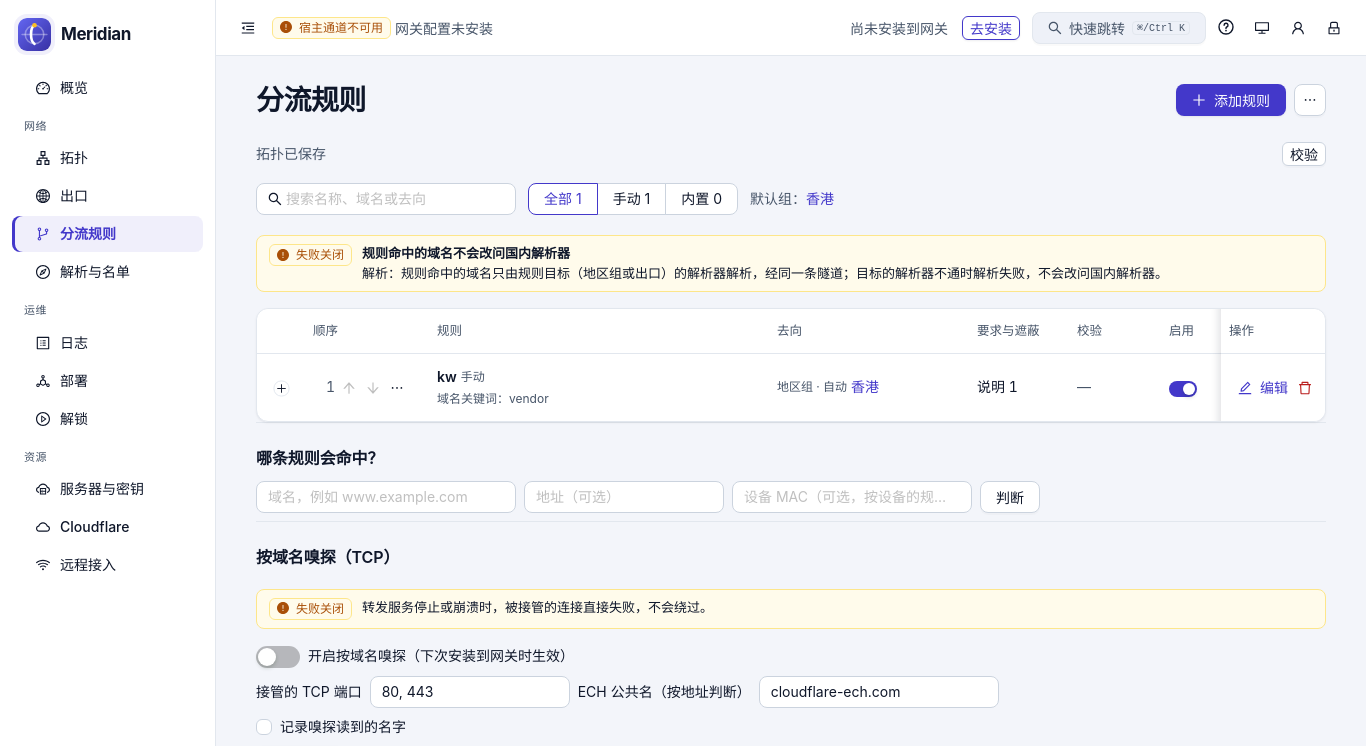
Scenario: keyword rules: the capability note follows the sniff state › rule list note, sniff pending
Step 1. Click the button with test id "rule-hints-kw" → [997, 388], box 977,376 -> 1018,398
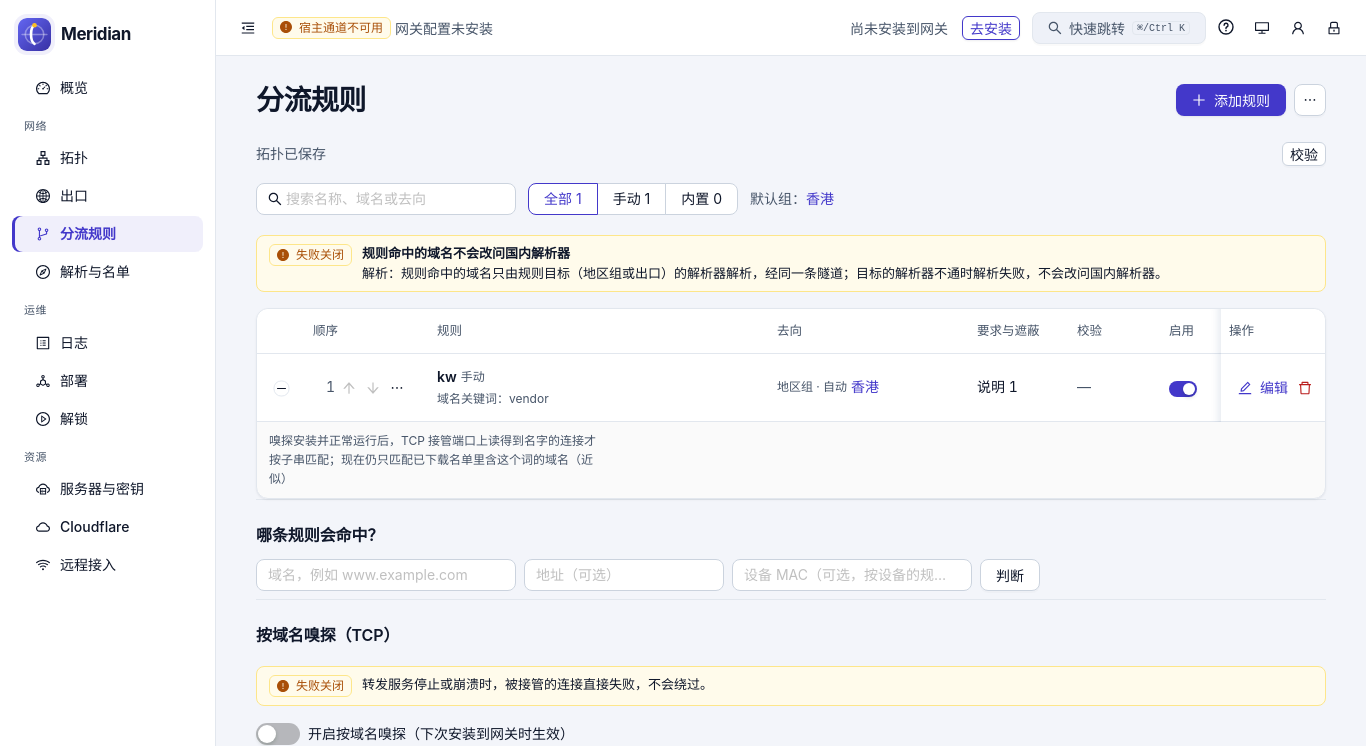
expect the element with test id "rule-shadow-kw" reads "嗅探安装并正常运行后，TCP 接管端口上读得到名字的连接才按子串匹配；现在仍只匹配已下载名单里含这个词的域名（近似）": met, box 269,433 -> 596,486
